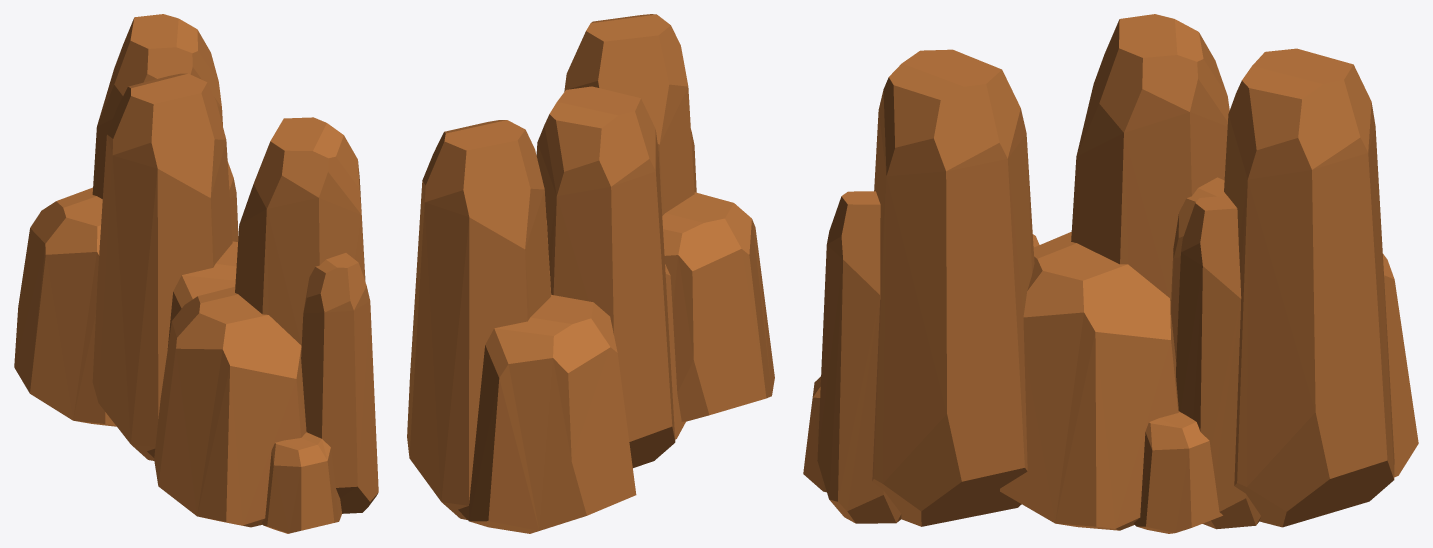
File: SmallBoundry.glb
3 renders of one model, left to right at view 1: azimuth 30°, elevation 25°; view 2: azimuth 150°, elevation 25°; view 3: azimuth 270°, elevation 25°, orthographic. The views are drawn at different scales.
Parts seen in each view (by area): view 1: crystal_16.010, crystal_16.012, crystal_16.011; view 2: crystal_16.011, crystal_16.012, crystal_16.010; view 3: crystal_16.011, crystal_16.010, crystal_16.012.
Boxes of the visible parts, box(x1,y1,x2,y2) form: crystal_16.010: box(154, 117, 378, 533); crystal_16.012: box(92, 73, 237, 460); crystal_16.011: box(14, 14, 238, 426); crystal_16.011: box(407, 120, 636, 533); crystal_16.012: box(536, 86, 685, 467); crystal_16.010: box(564, 14, 774, 421); crystal_16.011: box(1176, 48, 1418, 529); crystal_16.010: box(803, 49, 1039, 526); crystal_16.012: box(999, 14, 1229, 533).
Bounding box in the file's own units: 11.38 × 18.5 × 23.53.
